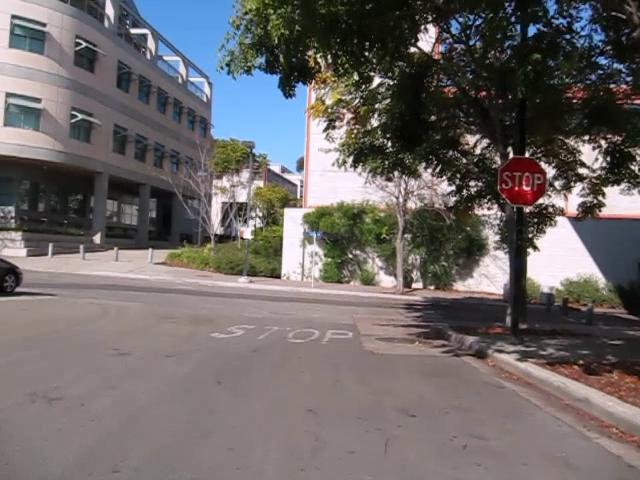stop: (496, 155, 547, 207)
